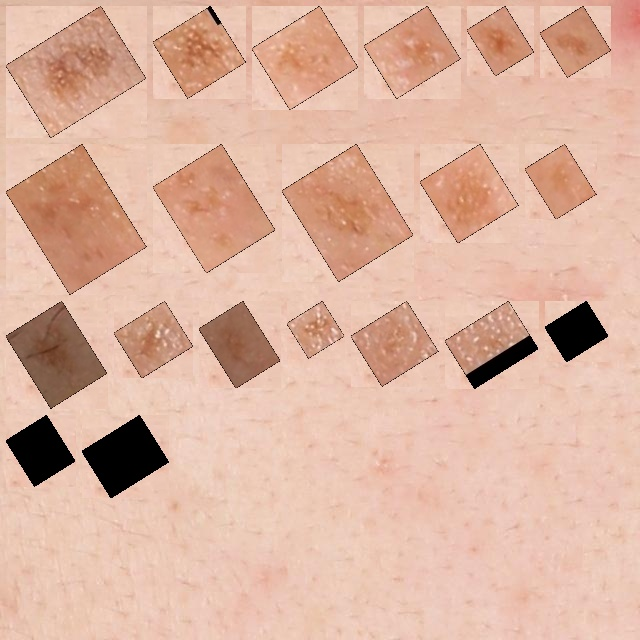melasma: (17, 155, 135, 283), (17, 17, 135, 126), (293, 155, 402, 270), (164, 155, 264, 262), (263, 17, 347, 98), (17, 312, 96, 397), (431, 155, 507, 232), (375, 17, 449, 87), (164, 17, 235, 87), (456, 312, 527, 377), (362, 312, 427, 375), (93, 426, 158, 487), (210, 312, 269, 377), (125, 312, 182, 367), (536, 155, 585, 208), (551, 17, 600, 66), (17, 426, 64, 475), (478, 17, 523, 65), (556, 312, 597, 351), (298, 312, 333, 347)
